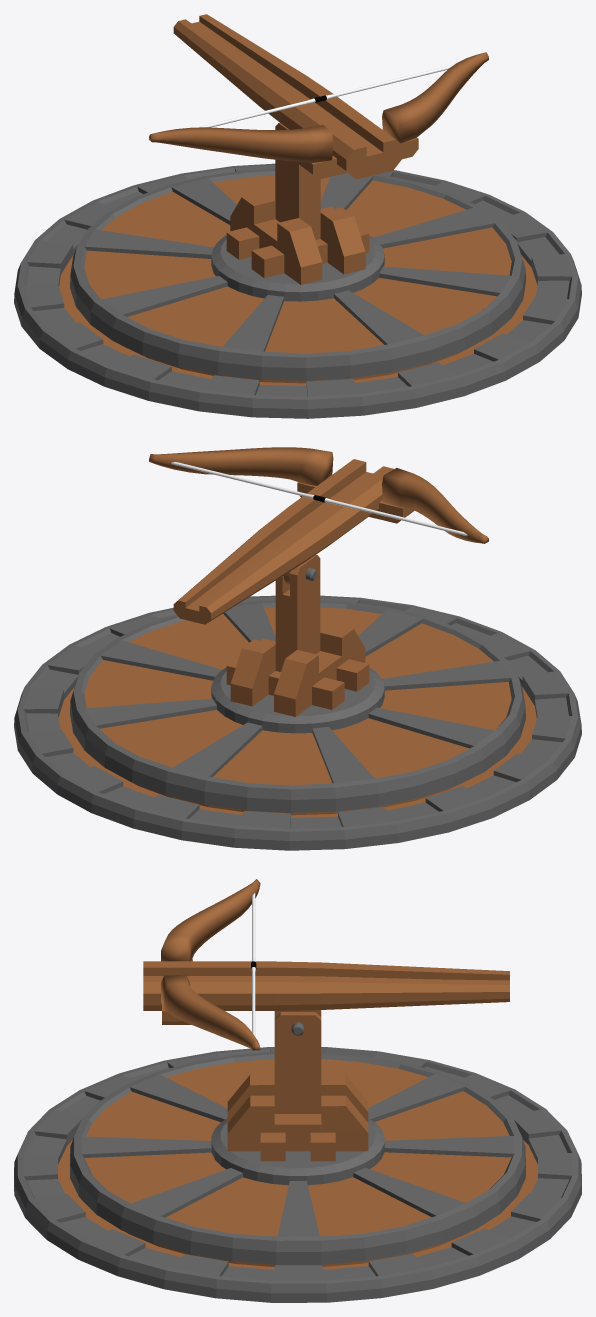
File: Ballista.fbx
3 views of the same model, one above another, from view 1: azimuth 30°, elevation 25°; view 2: azimuth 150°, elevation 25°; view 3: azimuth 270°, elevation 25° (orthographic).
Parts seen in each view (by area): view 1: Moving Platform, Base, Ballista Head, Ballista Leg, Ballista Arms, String; view 2: Moving Platform, Base, Ballista Leg, Ballista Head, Ballista Arms, String; view 3: Moving Platform, Base, Ballista Head, Ballista Leg, Ballista Arms, String.
Part boxes in pixels (left/top/right/bottom): Moving Platform: left=70, top=168, right=525, bottom=380; Base: left=14, top=163, right=581, bottom=418; Ballista Head: left=173, top=14, right=418, bottom=179; Ballista Leg: left=226, top=123, right=369, bottom=284; Ballista Arms: left=149, top=52, right=488, bottom=163; String: left=197, top=65, right=453, bottom=127; Moving Platform: left=70, top=600, right=525, bottom=812; Base: left=14, top=595, right=581, bottom=850; Ballista Leg: left=226, top=554, right=369, bottom=716; Ballista Head: left=173, top=459, right=413, bottom=624; Ballista Arms: left=149, top=447, right=488, bottom=543; String: left=171, top=462, right=467, bottom=536; Moving Platform: left=70, top=1051, right=525, bottom=1264; Base: left=14, top=1047, right=581, bottom=1302; Ballista Head: left=143, top=959, right=509, bottom=1024; Ballista Leg: left=227, top=1010, right=368, bottom=1161; Ballista Arms: left=161, top=879, right=260, bottom=1050; String: left=251, top=893, right=256, bottom=1036.
Bounding box in the file's own units: 174 × 75.81 × 174.
